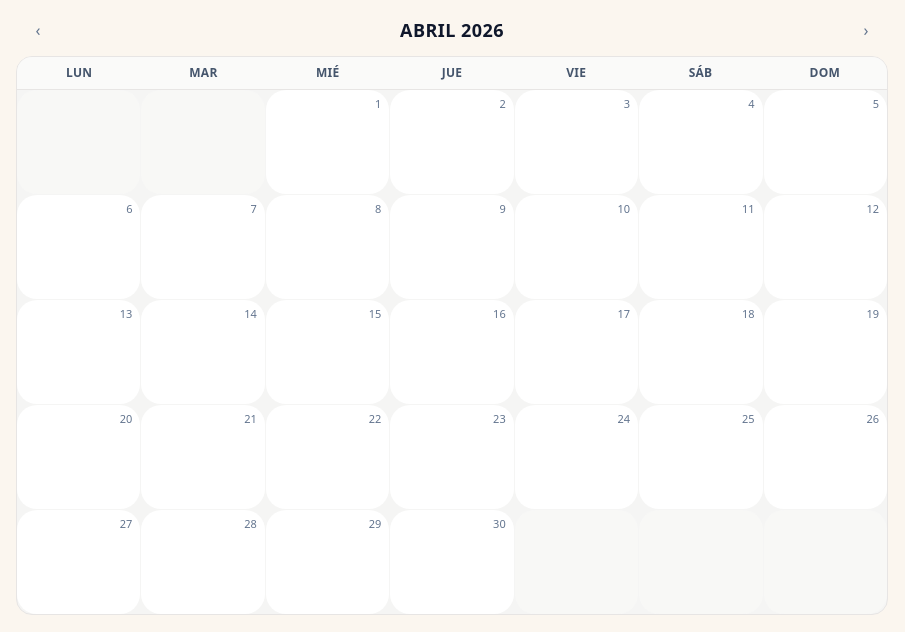
CalendarGrid › navigates to next month on swipe left
Press the mouse on the element with test id "calendar-grid" at coordinates (452, 336), box [16,56,888,615]
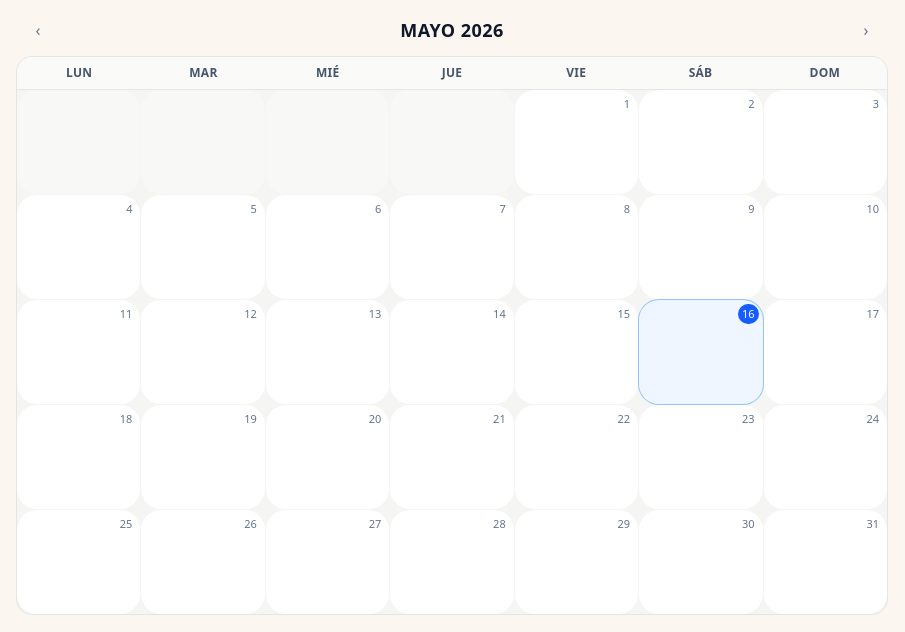
Expected: the heading "Mayo 2026" is shown, [400,16,504,44]
